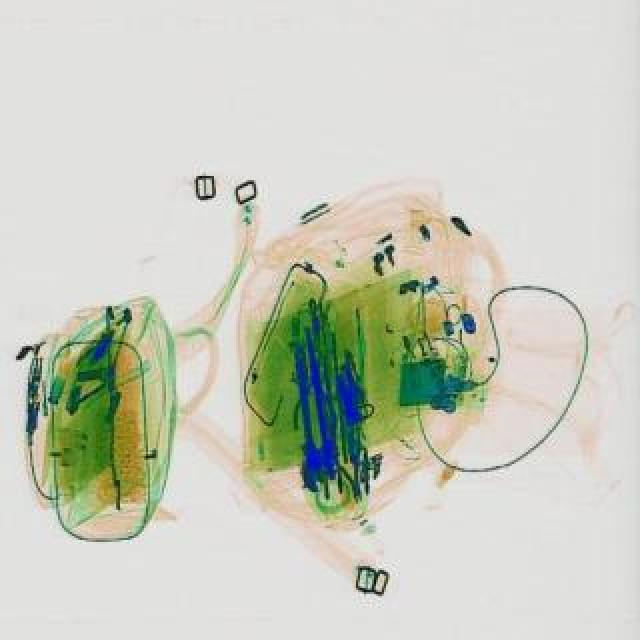scissors: (292, 346, 328, 494)
